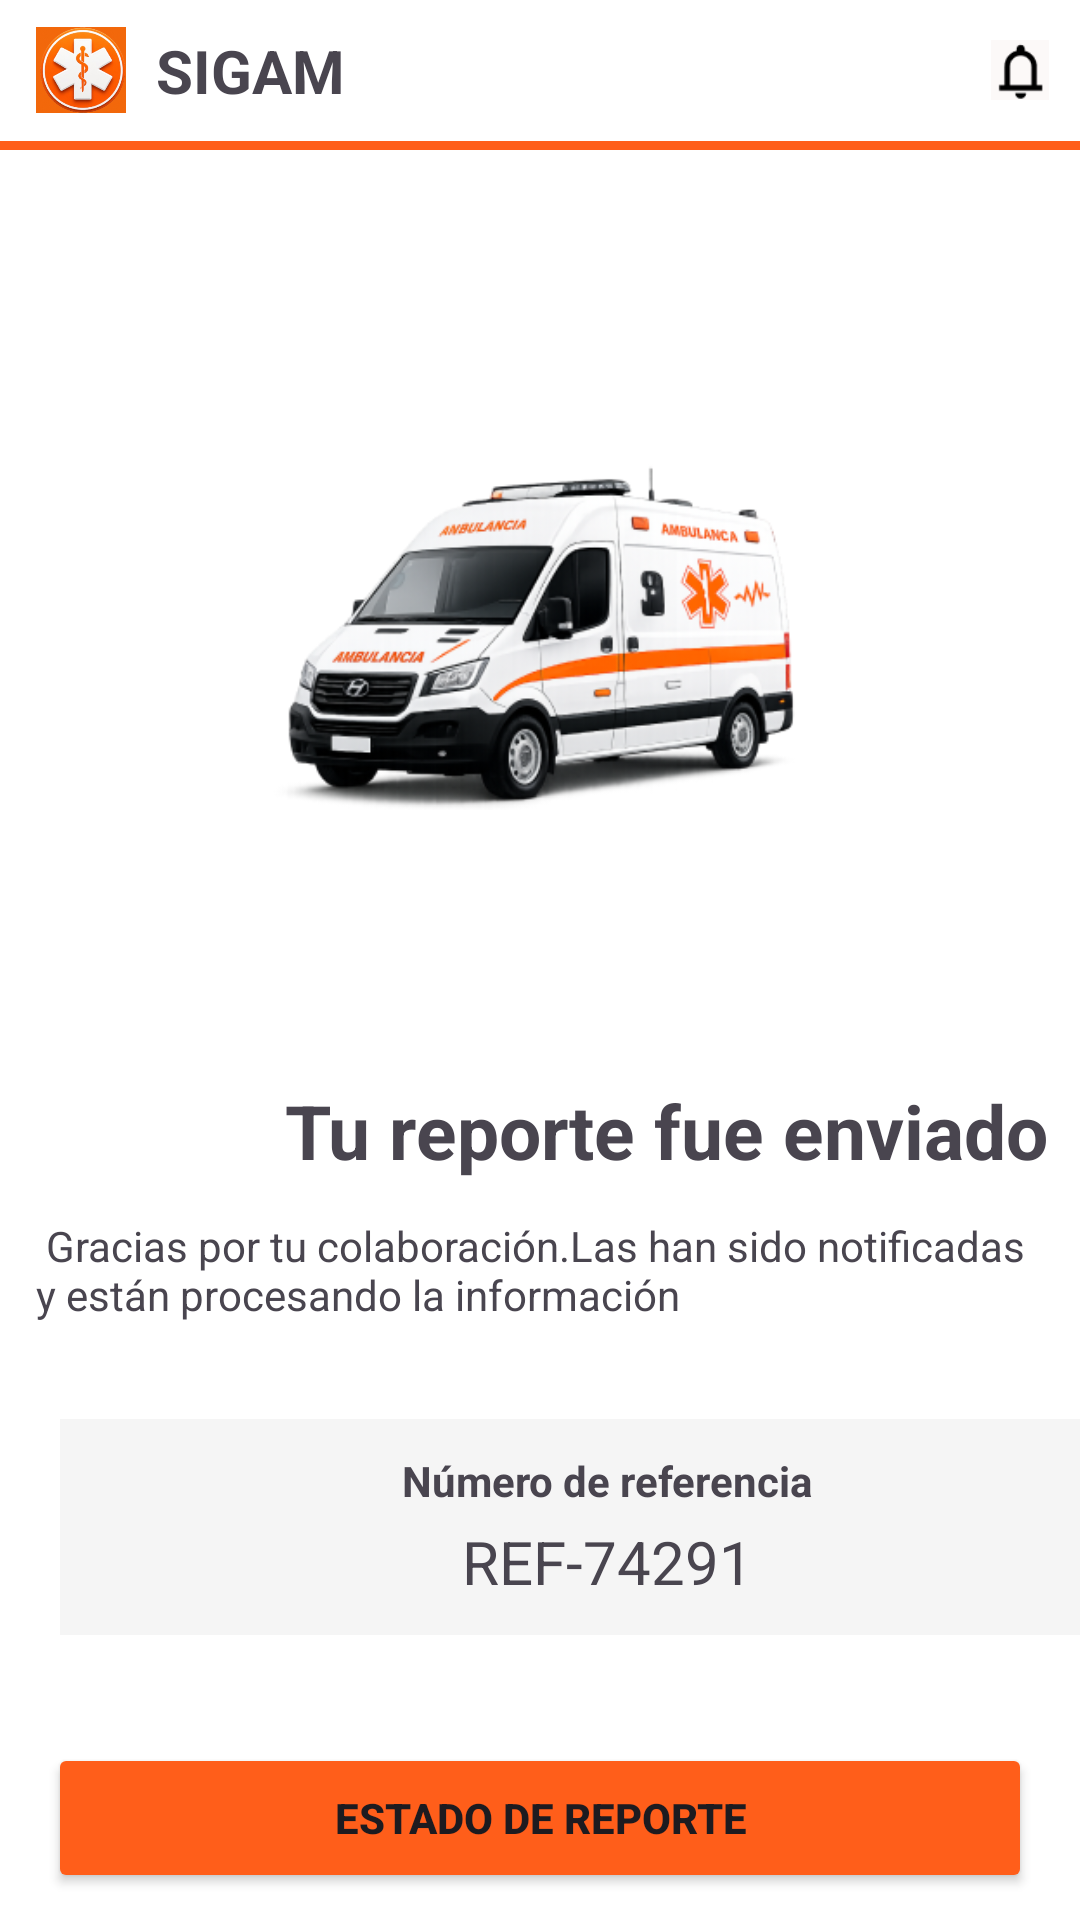

Icon bounding boxes for this 1080px x 1920px phone screenshot, format (x1, y1, x2, y2):
campana: (998, 44, 1043, 99)
